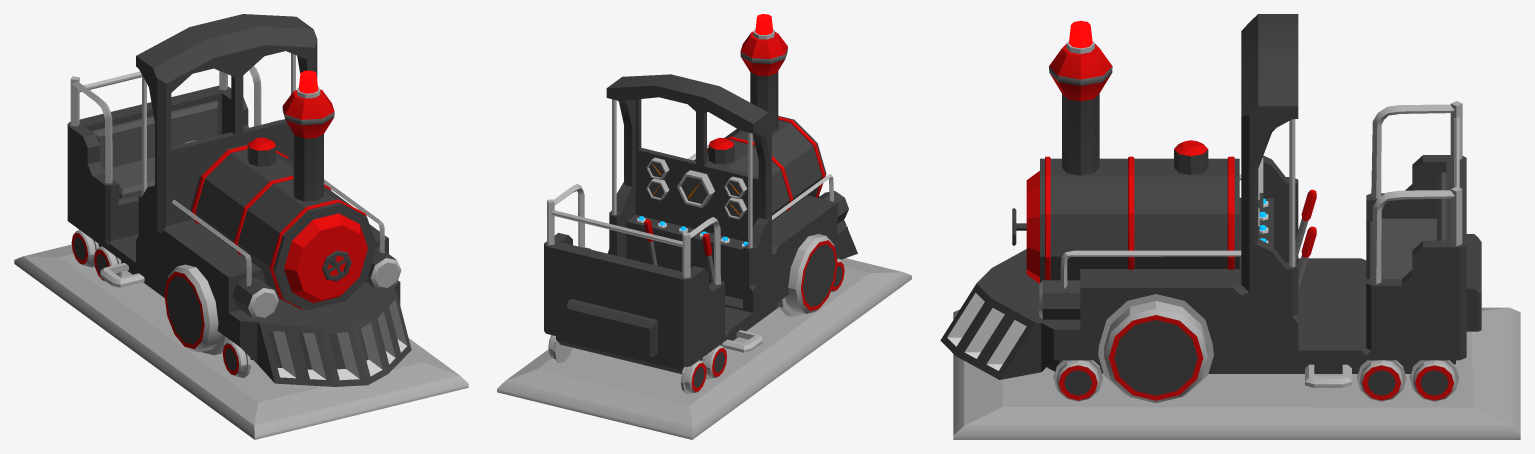
File: Train.fbx
The picture shows the model from 3 angles, left to right: view 1: azimuth 30°, elevation 25°; view 2: azimuth 150°, elevation 25°; view 3: azimuth 270°, elevation 25°; orthographic projection. The views are drawn at different scales.
Visible parts, largest first — view 1: TrainBody, Stand; view 2: TrainBody, Stand, Gauge; view 3: TrainBody, Stand, Handle.
Part boxes in pixels (x1,y1,x2,y2): TrainBody: (67, 14, 411, 386); Stand: (14, 244, 468, 439); TrainBody: (544, 14, 857, 394); Stand: (497, 258, 911, 439); Gauge: (677, 170, 714, 207); TrainBody: (940, 14, 1481, 402); Stand: (953, 307, 1520, 439); Handle: (1289, 189, 1316, 262).
Size of the model in its own units: 214 by 287 by 427.
